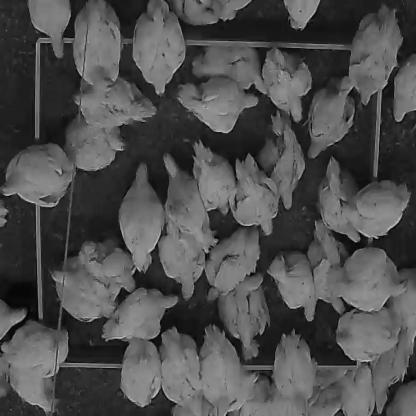chicken: (348, 6, 402, 107), (162, 154, 216, 253), (132, 1, 186, 98), (329, 248, 407, 313), (118, 163, 163, 273), (0, 143, 74, 209), (176, 79, 259, 135), (48, 254, 115, 323), (218, 274, 271, 360), (259, 112, 305, 211), (72, 1, 121, 90), (101, 288, 178, 343), (206, 226, 260, 304), (341, 180, 410, 240), (198, 325, 243, 415), (261, 49, 312, 125), (306, 82, 355, 160), (231, 154, 277, 237), (158, 218, 204, 301), (72, 80, 156, 124), (0, 321, 68, 375), (319, 157, 361, 243), (273, 330, 316, 413), (373, 330, 415, 414), (268, 252, 317, 323), (336, 308, 396, 365), (308, 222, 344, 316), (64, 117, 124, 172), (193, 141, 235, 216), (80, 239, 136, 295), (192, 45, 260, 91), (160, 327, 199, 406), (121, 338, 160, 409), (27, 0, 71, 60), (8, 363, 53, 413), (174, 1, 251, 26), (394, 268, 416, 352), (310, 369, 348, 416), (340, 367, 376, 415), (236, 375, 279, 415), (392, 53, 416, 123), (282, 1, 320, 32), (0, 299, 28, 341), (167, 394, 217, 415), (385, 381, 415, 415), (275, 410, 303, 416)
